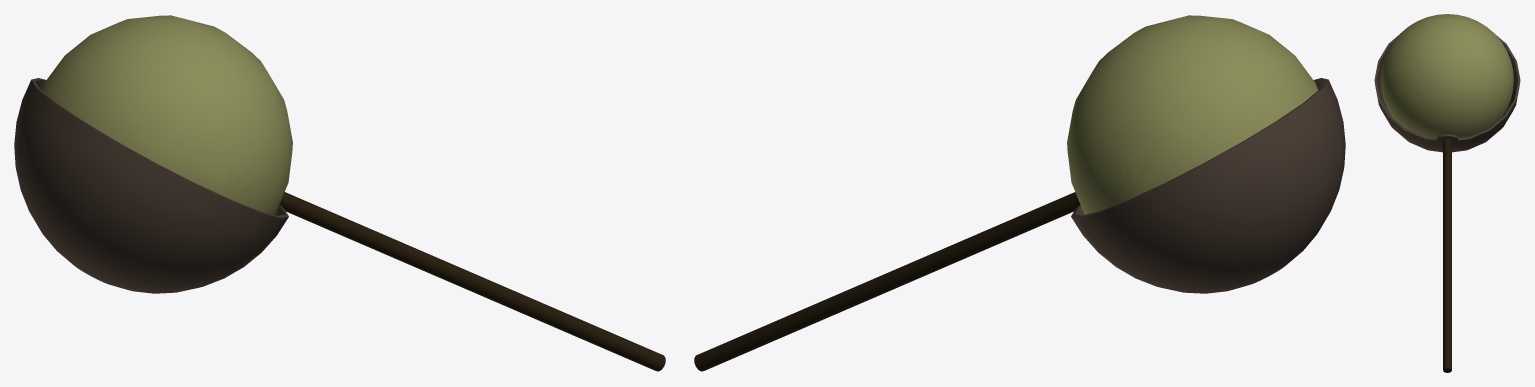
The model's file is smallHand.obj.
3 renders of one model, left to right at view 1: azimuth 30°, elevation 25°; view 2: azimuth 150°, elevation 25°; view 3: azimuth 270°, elevation 25°, orthographic. The views are drawn at different scales.
Parts seen in each view (by area): view 1: models/smallHand; view 2: models/smallHand; view 3: models/smallHand.
Boxes of the visible parts, <box> form: models/smallHand: <box>14,15,665,371</box>; models/smallHand: <box>694,15,1345,371</box>; models/smallHand: <box>1374,14,1520,372</box>.
Size of the model in its own units: 1.64 by 1.16 by 0.6597.
